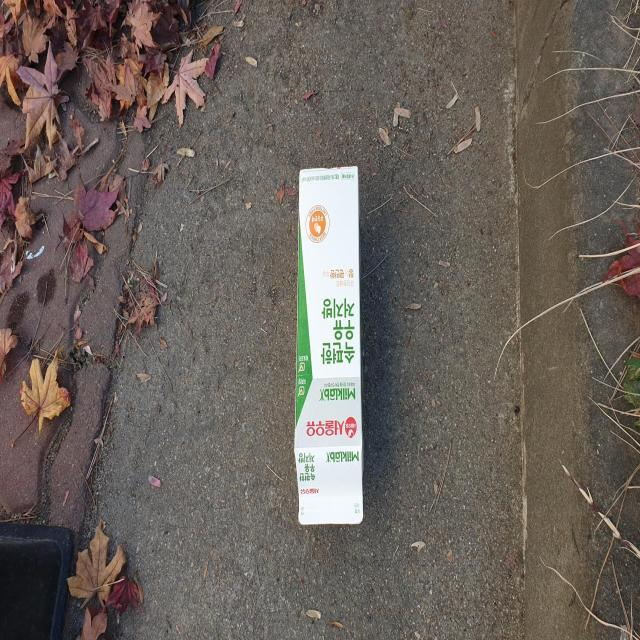paperpack: (295, 165, 363, 525)
